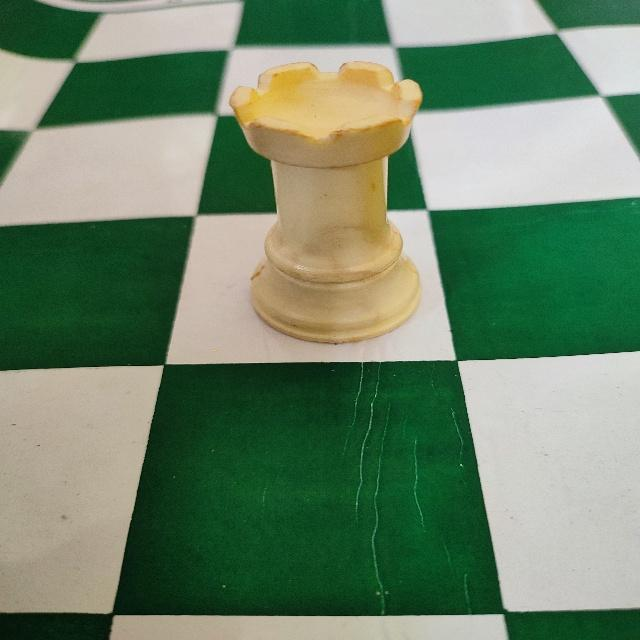Rook: (225, 55, 431, 346)
